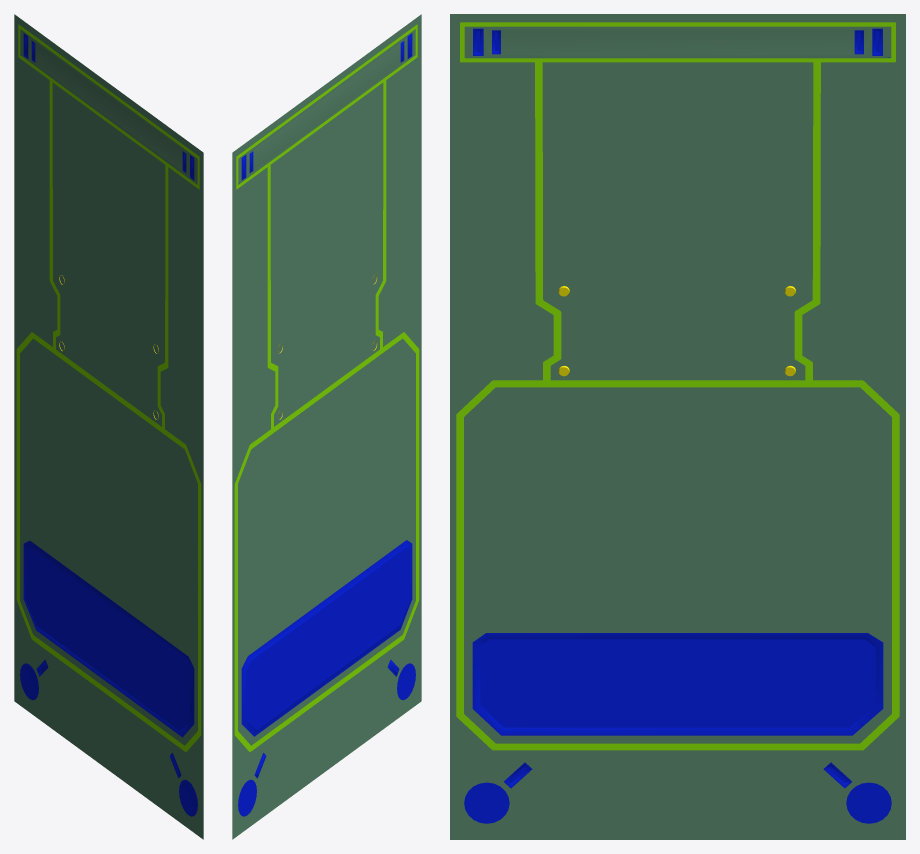
Rendered from Building_Wall_02h_snaps016.fbx.
3 renders of one model, left to right at view 1: azimuth 30°, elevation 25°; view 2: azimuth 150°, elevation 25°; view 3: azimuth 270°, elevation 25°, orthographic. The views are drawn at different scales.
Parts seen in each view (by area): view 1: Building_Wall_02h_snaps016_LOD0; view 2: Building_Wall_02h_snaps016_LOD0; view 3: Building_Wall_02h_snaps016_LOD0.
Part boxes in pixels (x1,y1,x2,y2): Building_Wall_02h_snaps016_LOD0: (14, 14, 203, 839); Building_Wall_02h_snaps016_LOD0: (232, 14, 421, 839); Building_Wall_02h_snaps016_LOD0: (450, 14, 905, 839).
Size of what is drawn, in the model's own units: 0.0224 by 6 by 3.
